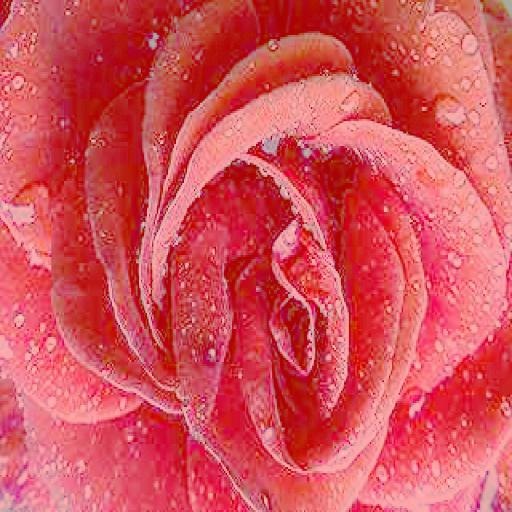rose: (4, 0, 508, 512)
